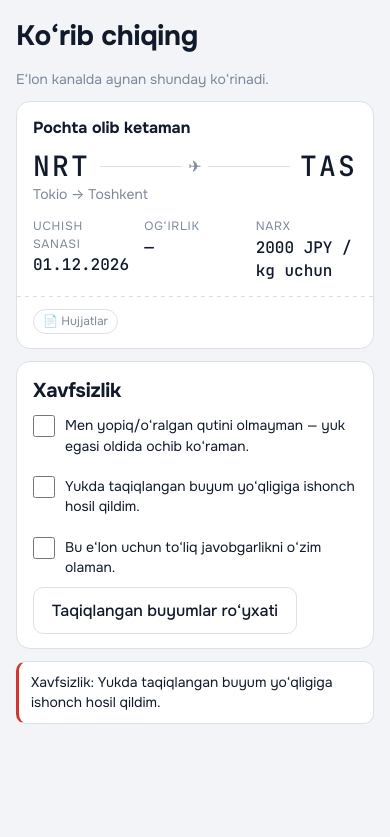
Scenario: PreviewPage — xavfsizlik checklist › taqiqlangan buyumlar ro‘yxati ochiladi (§7.3)
Step 1. Click the button "Taqiqlangan buyumlar ro‘yxati" → (165, 611), box 33,587 -> 297,634
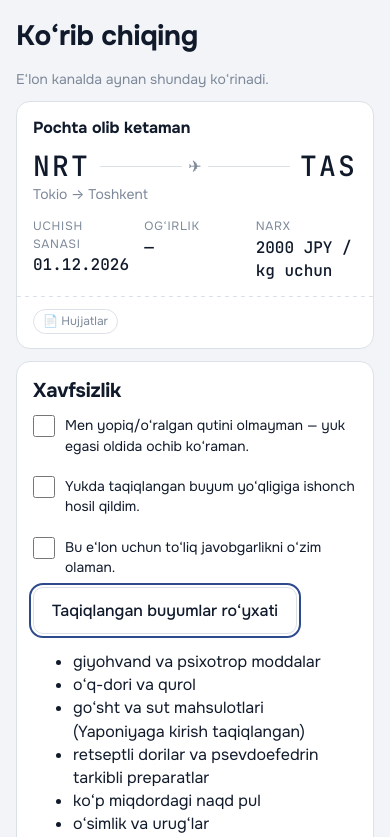
Expected: the list item "giyohvand va psixotrop moddalar" is shown, 73,650 -> 357,673
